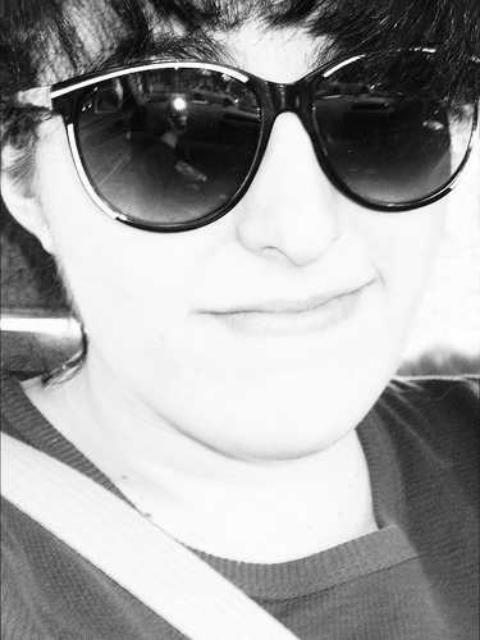Seatbelt: (0, 426, 306, 640)
